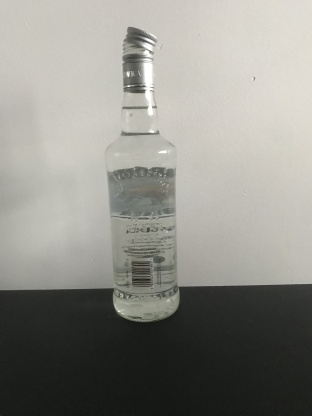nakretka: (120, 24, 158, 93)
